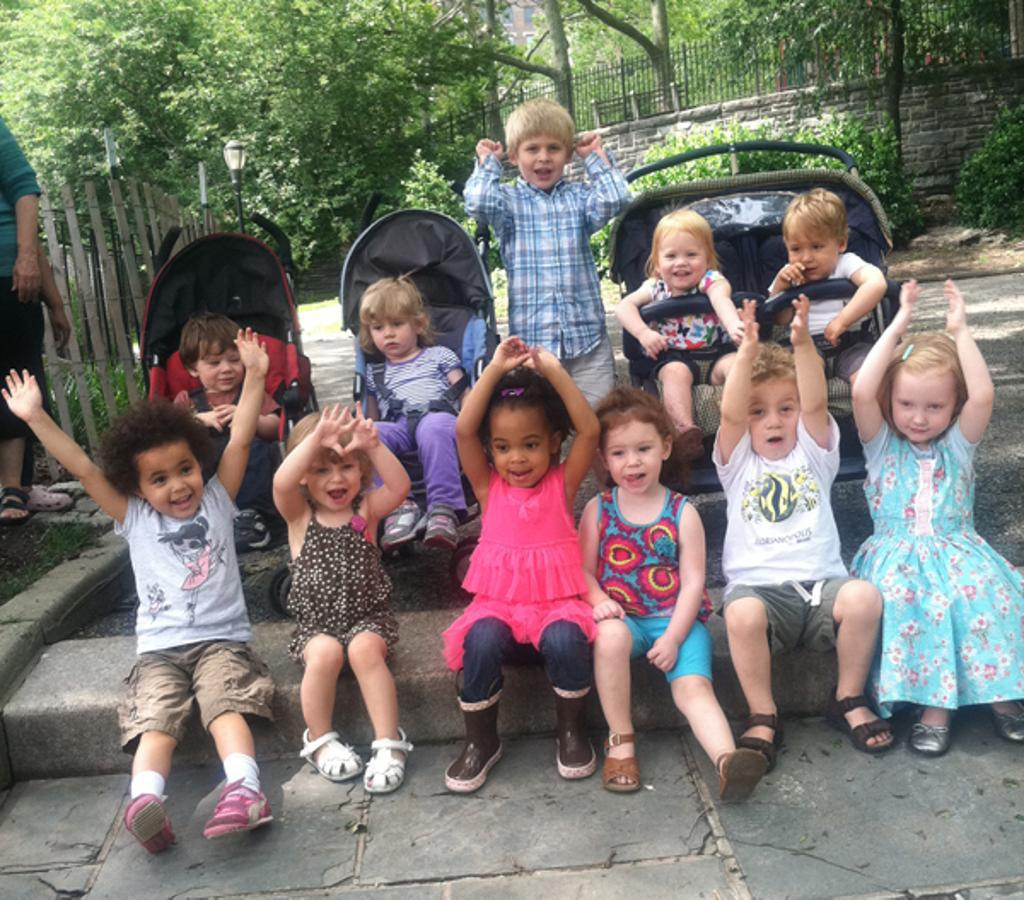face: (141, 452, 205, 519), (490, 420, 553, 488), (746, 390, 805, 458), (892, 380, 956, 442), (309, 447, 363, 509), (605, 437, 664, 492), (517, 133, 566, 188), (788, 227, 839, 279), (661, 238, 707, 288), (200, 347, 245, 390), (371, 312, 417, 354)
